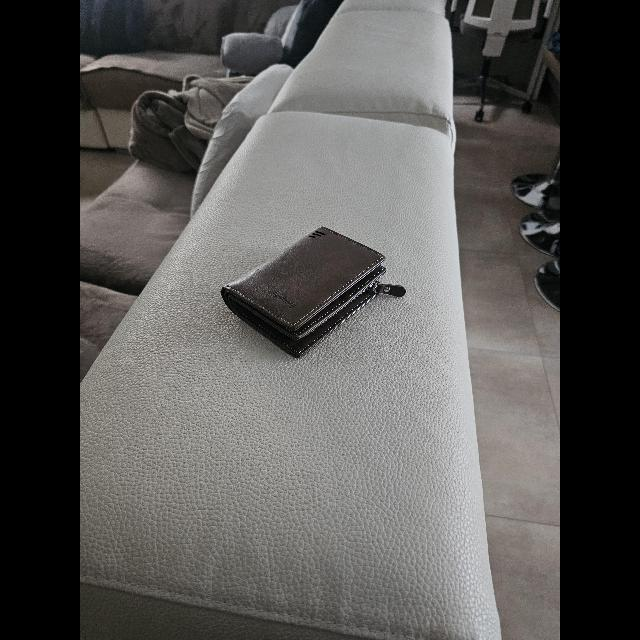Wallet: (220, 226, 396, 358)
